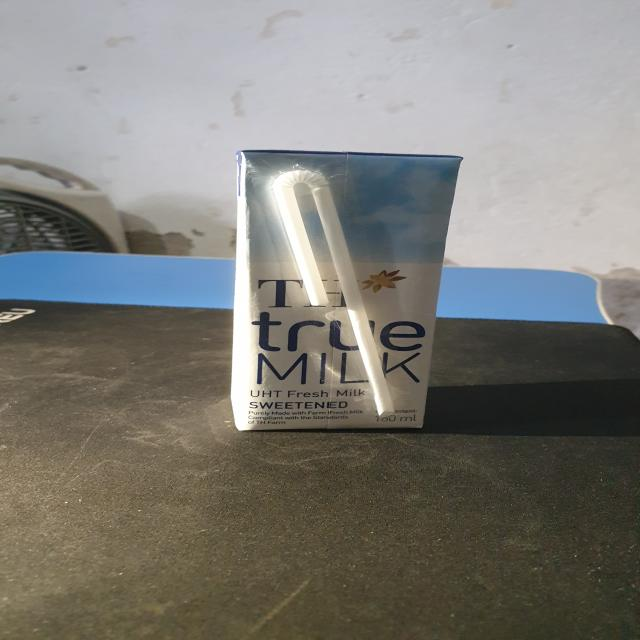TH: (234, 153, 464, 432)
